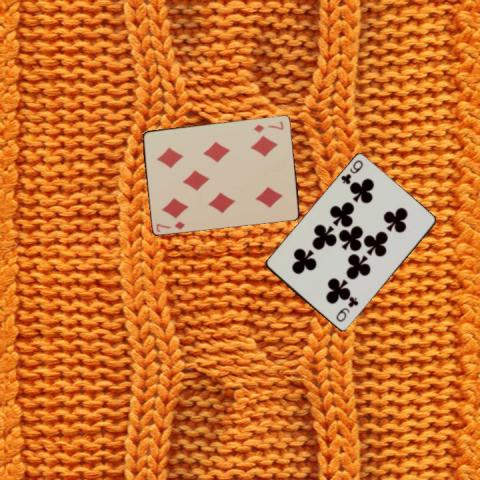7d: (250, 118, 284, 133), (153, 218, 187, 233)
9c: (333, 295, 360, 324), (338, 157, 365, 186)
